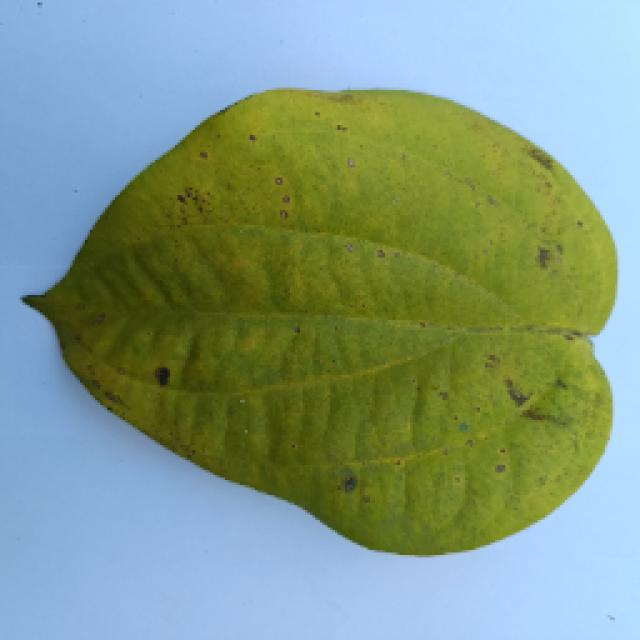slow-decline: (12, 95, 618, 577)
